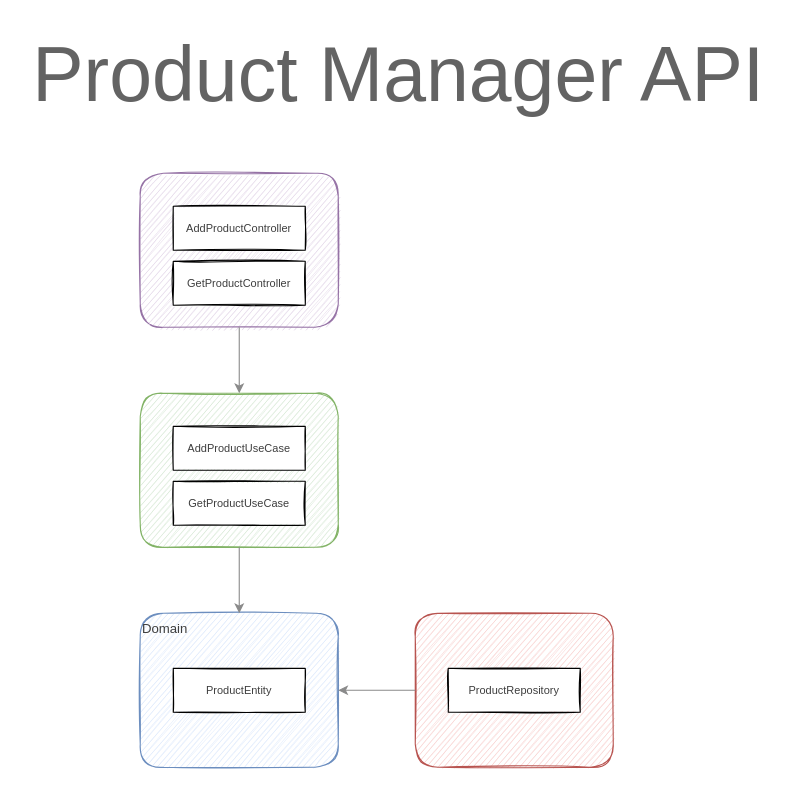
Some shapes in this 796 by 787 pixel diagram are drawn without their labels. The box of each missing label's shape, as (x1, y1, x2, y2) in pixels:
Application: (139, 392, 338, 547)
Infra.Repository: (414, 612, 613, 767)
WebApi: (139, 172, 338, 327)
